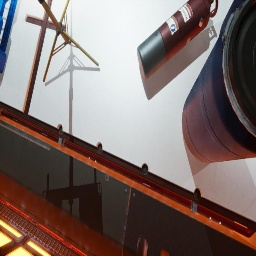NitrogenTank ,: (137, 0, 218, 80)
